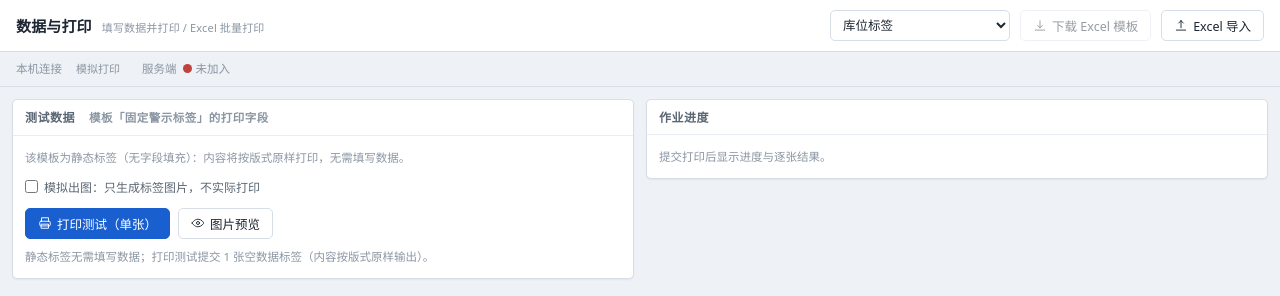
Test: 无字段模板（静态标签）打印测试（迭代 65 · #62） › 打印测试（调试关）：提交单张空数据作业（labels: [{ data: {} }]），进度面板正常显示（AC-02）
The width and height of the screenshot is (1280, 296).
Click the button "打印测试（单张）" at (98, 223), box [25, 208, 170, 239]
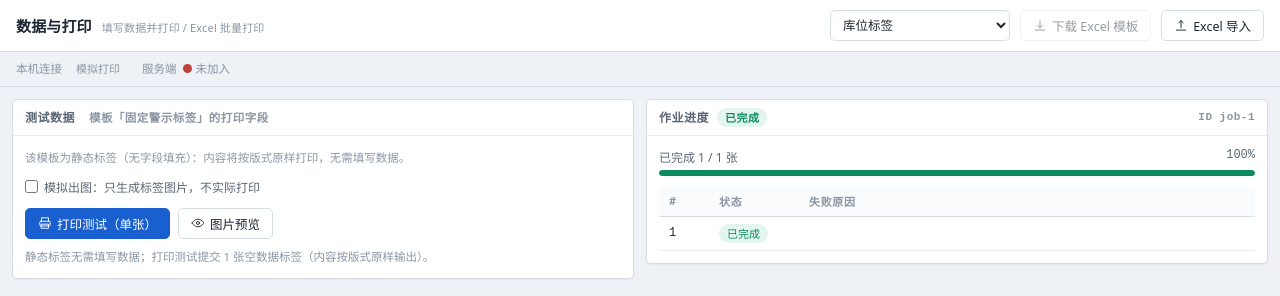
Result: the text "已完成 1 / 1 张" is shown at [659, 148, 738, 166]
